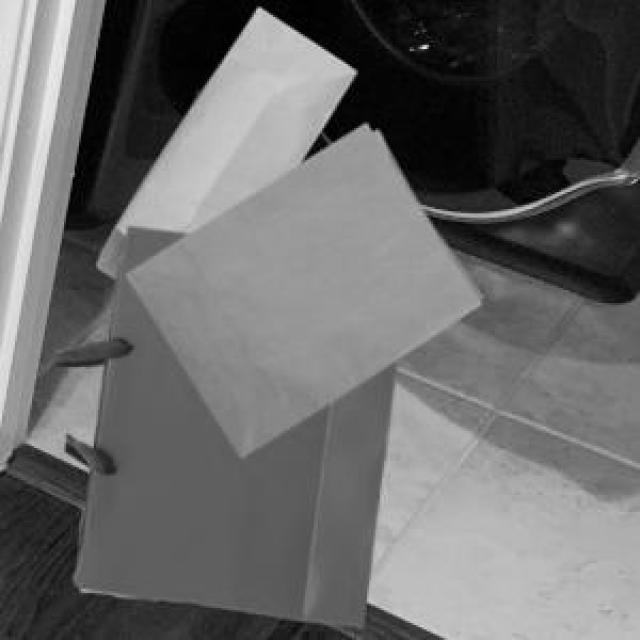paper: (53, 222, 393, 623), (124, 120, 476, 452), (94, 4, 352, 275)
